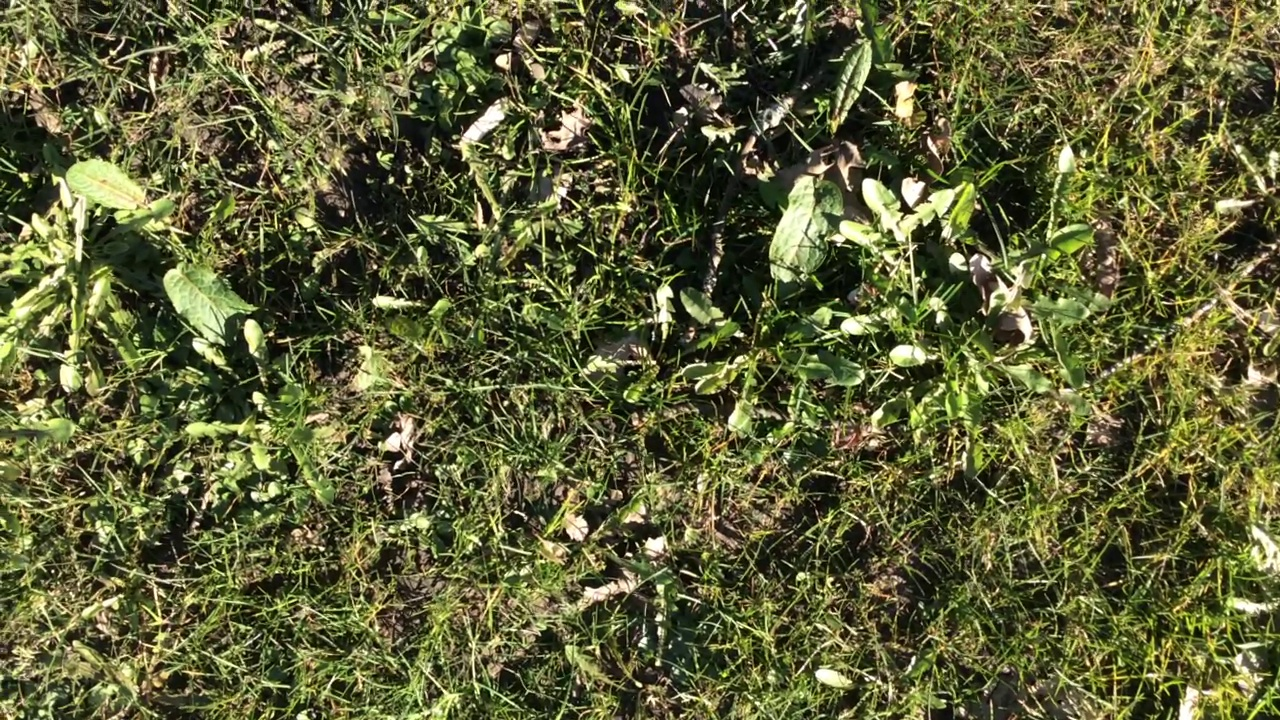rumex: (770, 179, 842, 279), (165, 263, 247, 347), (68, 161, 145, 212), (833, 43, 871, 122)
